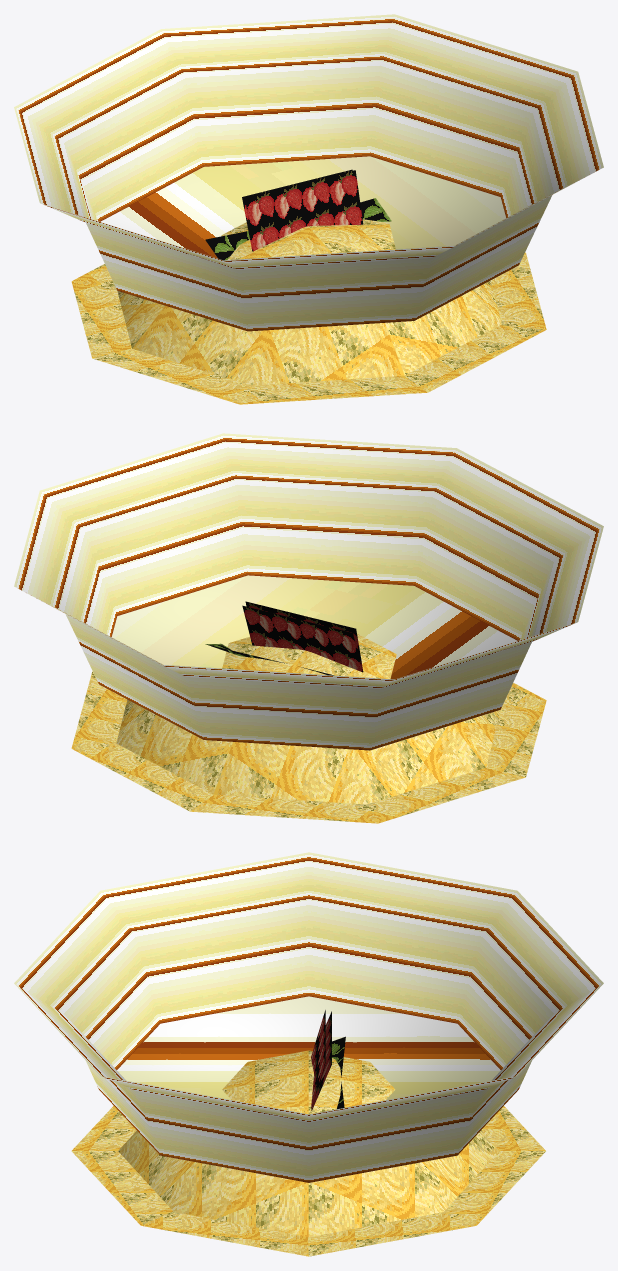
File: 5579u_spps02_ss.gltf
The picture shows the model from 3 angles, top to bottom: view 1: azimuth 30°, elevation 25°; view 2: azimuth 150°, elevation 25°; view 3: azimuth 270°, elevation 25°; orthographic projection.
Visible parts, largest first — view 1: 5579u_spps02_ss; view 2: 5579u_spps02_ss; view 3: 5579u_spps02_ss.
Boxes of the visible parts, x1=… form: 5579u_spps02_ss: x1=14, y1=14, x2=603, y2=404; 5579u_spps02_ss: x1=14, y1=433, x2=603, y2=823; 5579u_spps02_ss: x1=14, y1=852, x2=603, y2=1256.
Bounding box in the file's own units: 0.8237 × 0.2644 × 0.7837.
5 materials, 5 textured.
